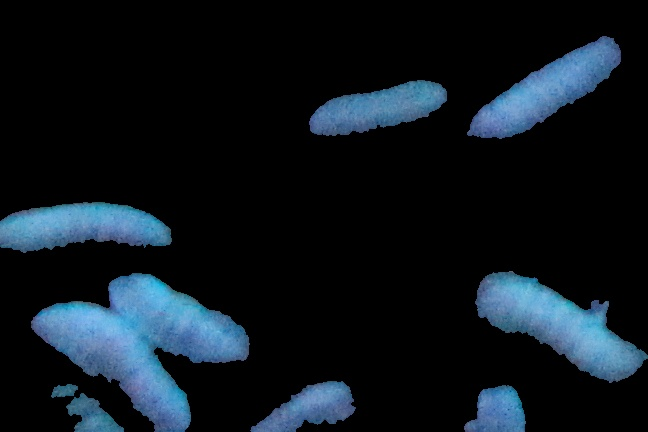larvae: (29, 298, 192, 430), (474, 265, 643, 377), (466, 29, 619, 147), (106, 268, 249, 367), (1, 195, 173, 251), (309, 79, 449, 134)
